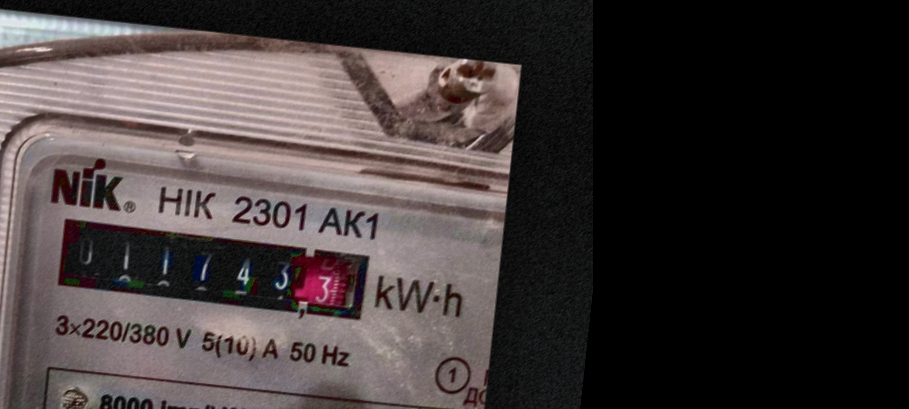0: (73, 231, 95, 269)
1: (155, 241, 174, 276), (118, 237, 132, 271)
3: (268, 256, 291, 293), (311, 273, 332, 308)
4: (231, 252, 252, 288)
7: (193, 247, 214, 283)
screen: (40, 205, 382, 334)
